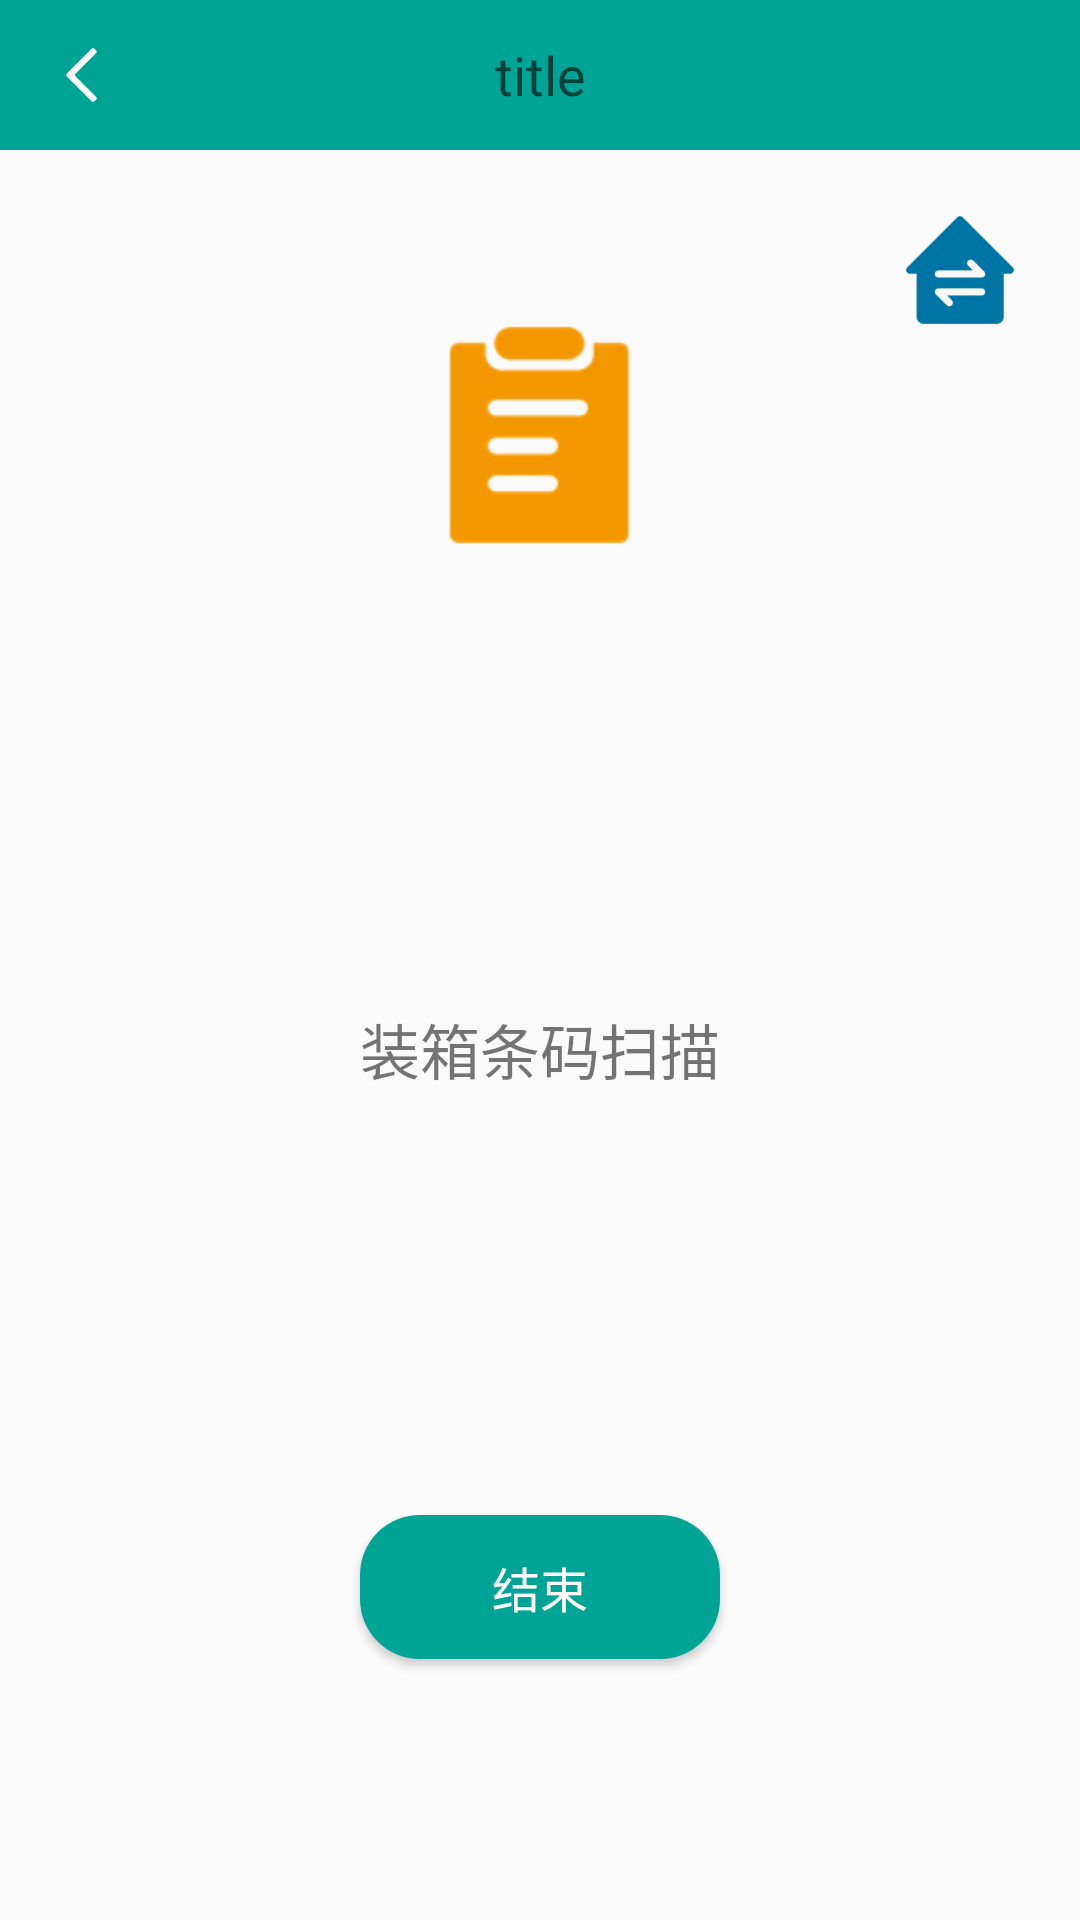

Icons on this 1080px x 1920px Android screen, each with the point to tap as (x,y):
home: (960,270)
